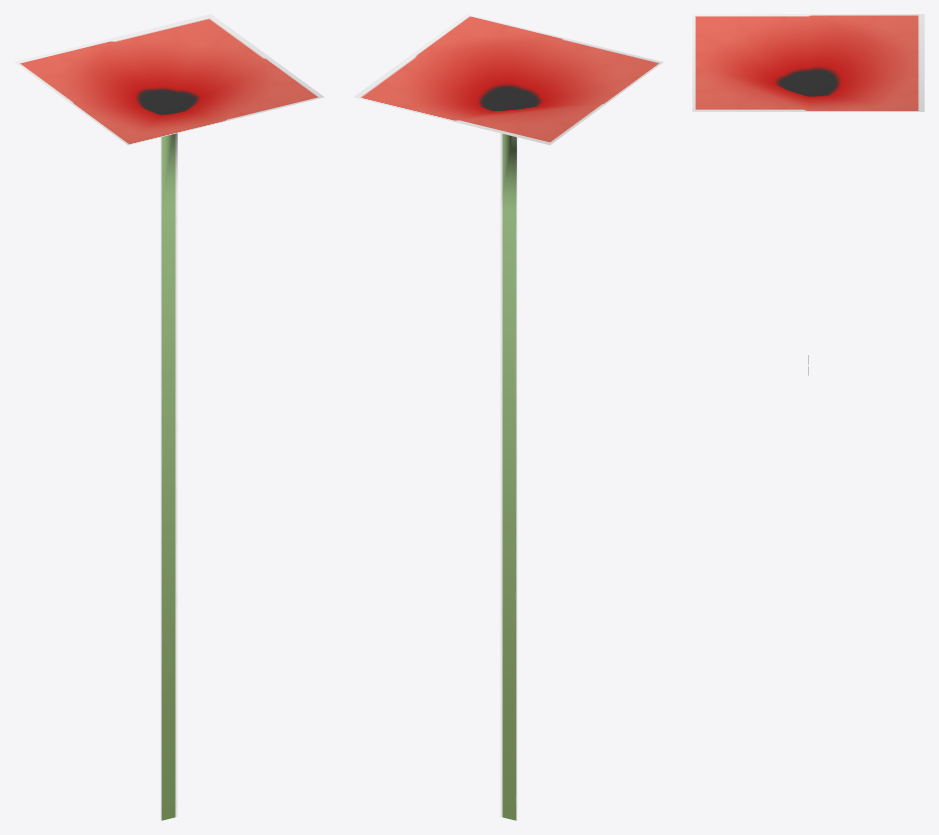
Rendered from Flower_03.glb.
The picture shows the model from 3 angles, left to right: view 1: azimuth 30°, elevation 25°; view 2: azimuth 150°, elevation 25°; view 3: azimuth 270°, elevation 25°; orthographic projection.
Parts seen in each view (by area): view 1: Flower_03; view 2: Flower_03; view 3: Flower_03.
Part boxes in pixels (box(x1,y1,x2,y2)): Flower_03: box(14, 14, 324, 820); Flower_03: box(353, 14, 663, 820); Flower_03: box(692, 14, 924, 375).
Size of the model in its own units: 0.1049 by 0.376 by 0.1049.
Materials: 1 (1 with a texture image).
